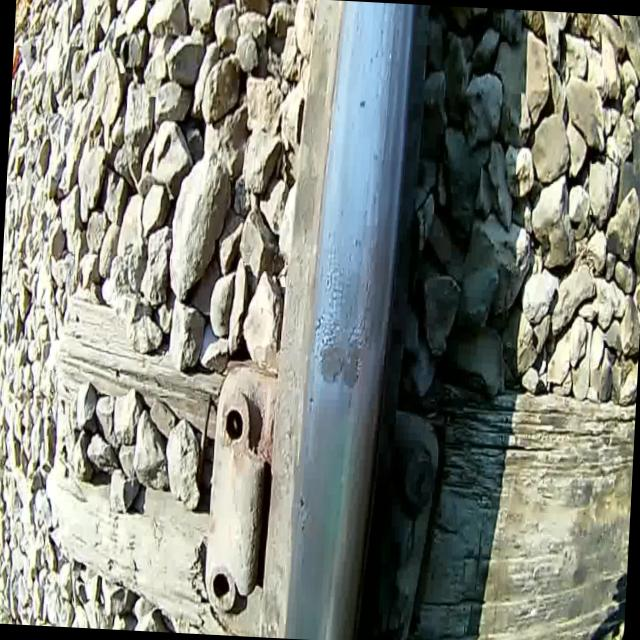Squats: (314, 329, 369, 397)
